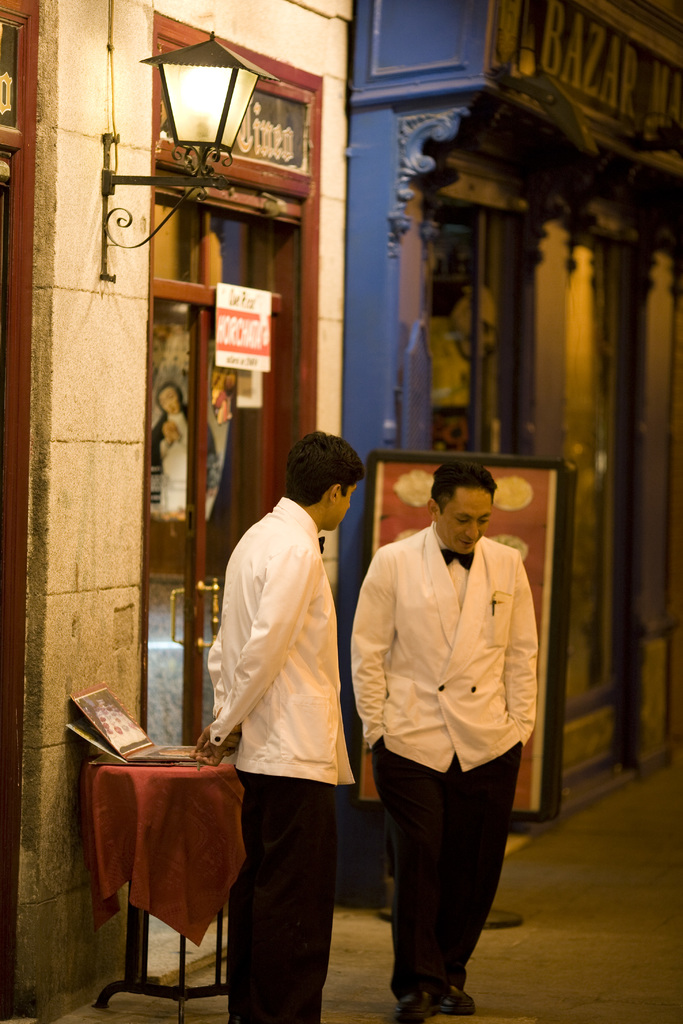Table: (78, 751, 266, 1011)
